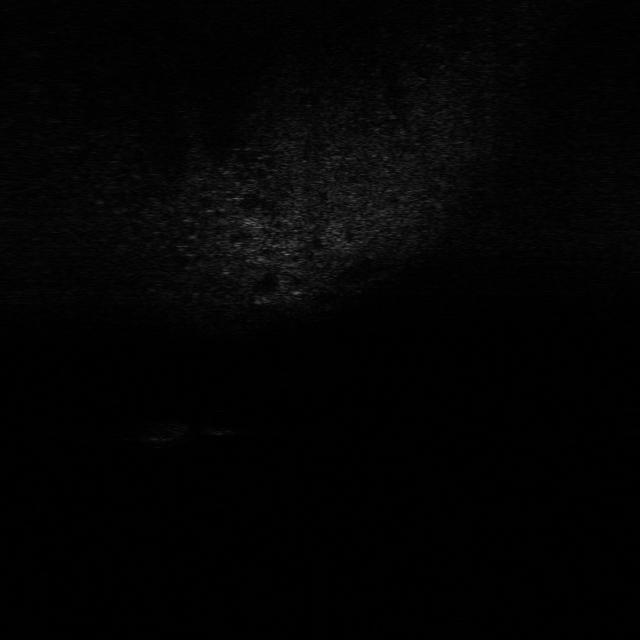ball: (203, 408, 239, 434)
circle cage: (130, 417, 196, 450)
